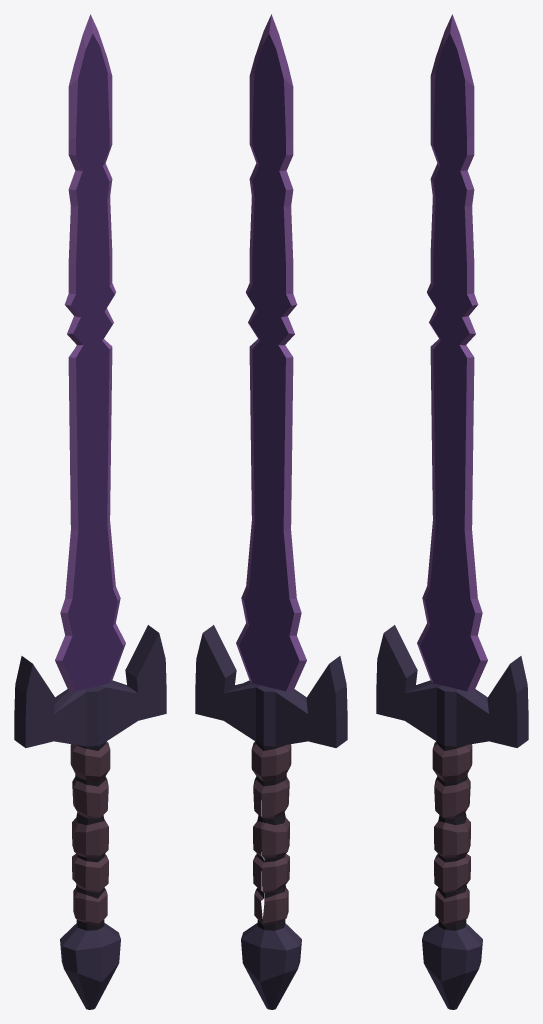
Rendered from obsidian_sword.glb.
3 views of the same model, side by side, from view 1: azimuth 30°, elevation 25°; view 2: azimuth 150°, elevation 25°; view 3: azimuth 330°, elevation 25° (orthographic).
Parts seen in each view (by area): view 1: Claymore_Cylinder.010; view 2: Claymore_Cylinder.010; view 3: Claymore_Cylinder.010.
Part boxes in pixels (x1,y1,x2,y2): Claymore_Cylinder.010: (14, 14, 166, 1009); Claymore_Cylinder.010: (195, 14, 347, 1009); Claymore_Cylinder.010: (376, 14, 528, 1009).
Size of the model in its own units: 0.9781 by 6.59 by 0.2713.
1 material, 1 textured.
